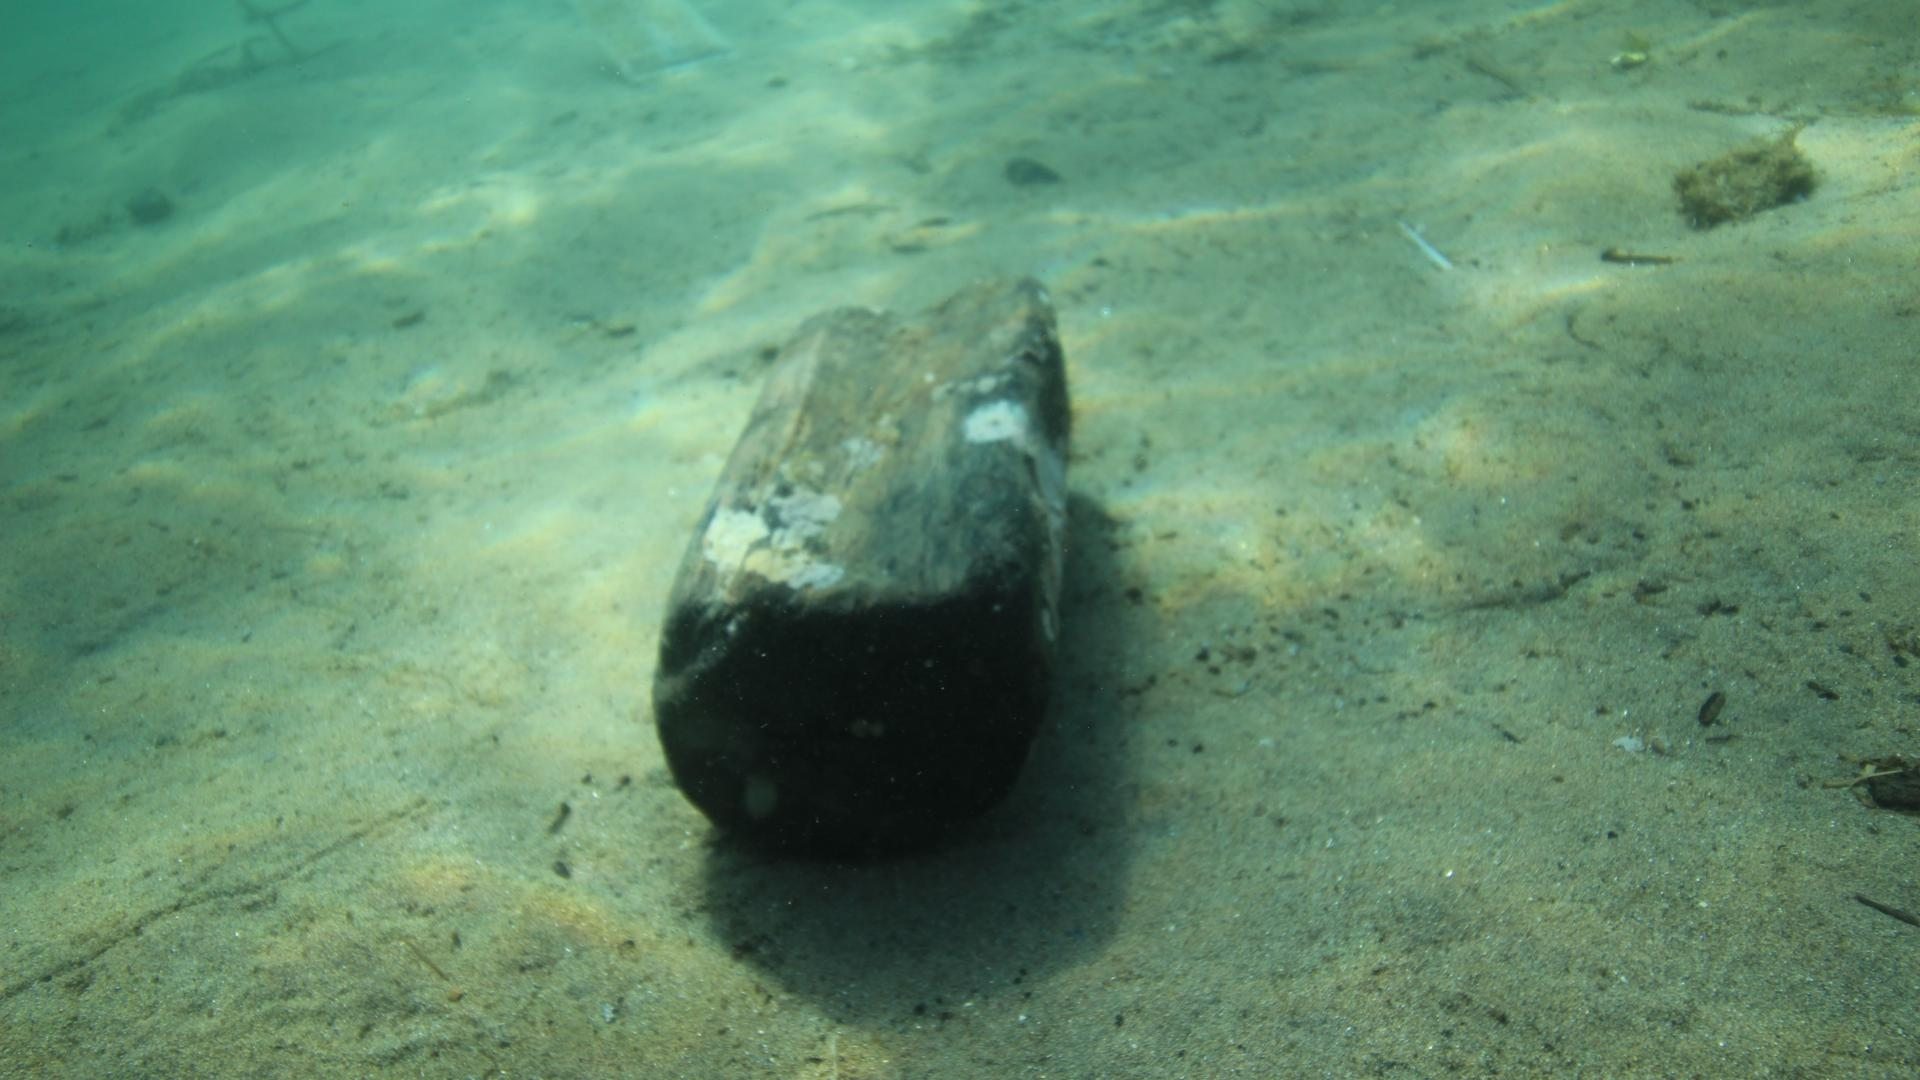wood: (651, 276, 1069, 860)
